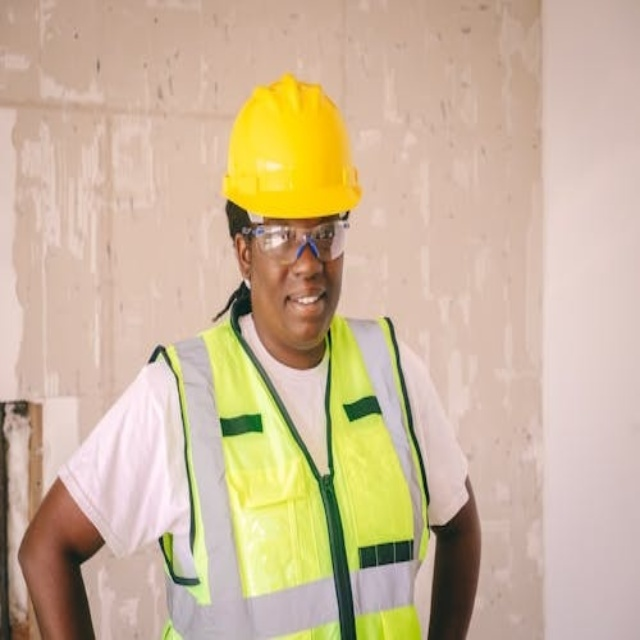Gafas: (233, 217, 352, 265)
Sin_mascara: (276, 285, 330, 346)
